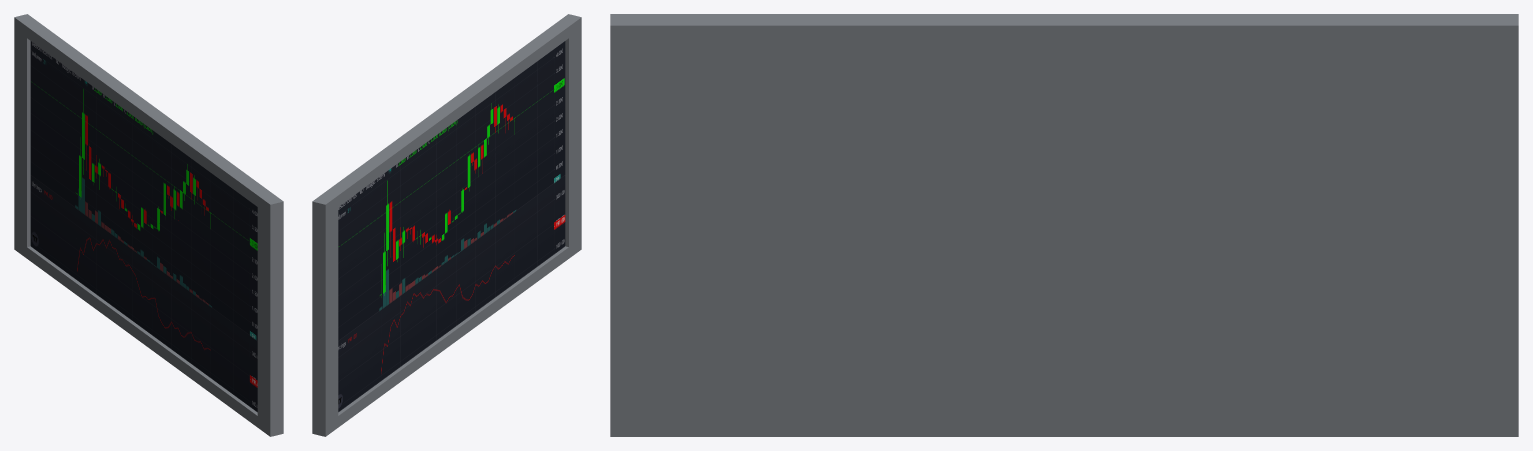
Rendered from dreamtools_chart.glb.
3 renders of one model, left to right at view 1: azimuth 30°, elevation 25°; view 2: azimuth 150°, elevation 25°; view 3: azimuth 270°, elevation 25°, orthographic. The views are drawn at different scales.
Parts seen in each view (by area): view 1: dreamtools; view 2: dreamtools; view 3: dreamtools.
Boxes of the visible parts, box(x1,y1,x2,y2) form: dreamtools: box(14, 14, 283, 436); dreamtools: box(312, 14, 581, 436); dreamtools: box(610, 14, 1518, 436).
Size of the model in its own units: 0.03 by 0.5 by 1.
Materials: 2 (1 with a texture image).
